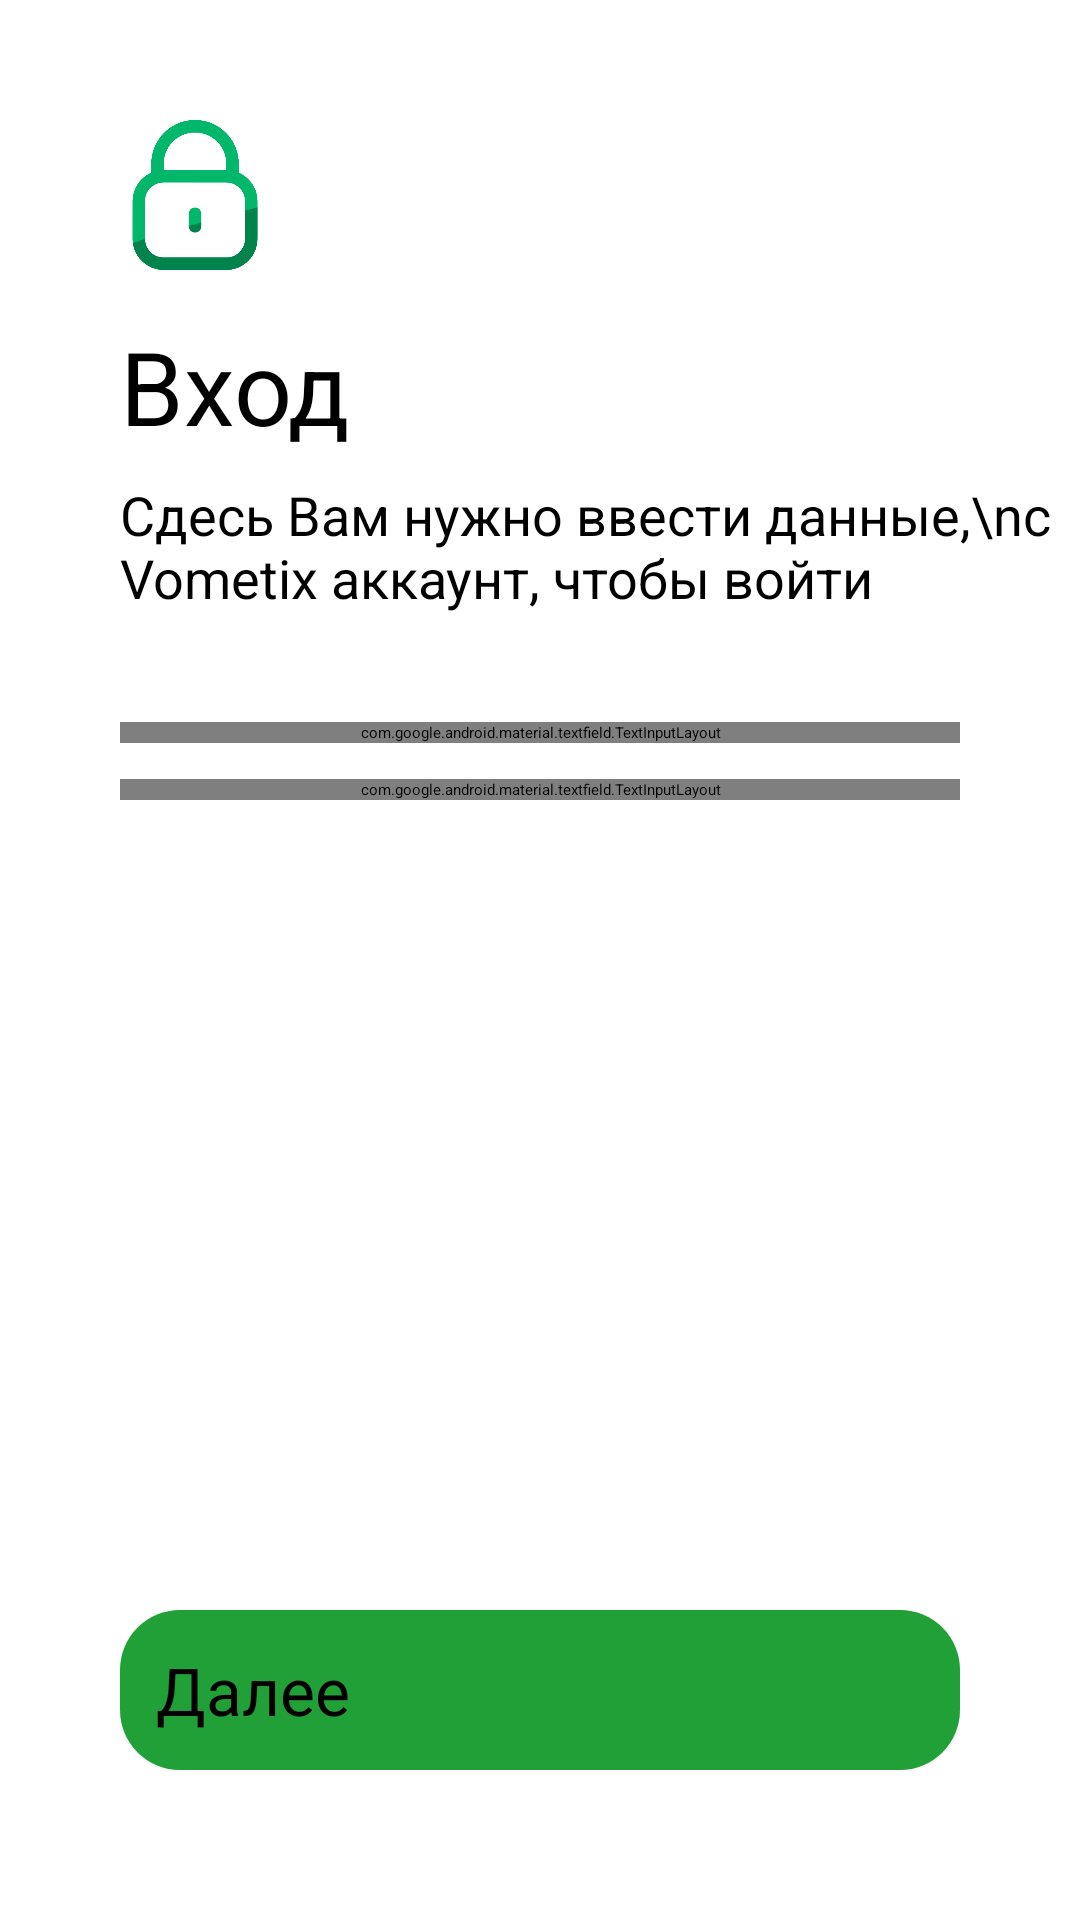

Where to tap for icons on this 1080x1920 app screen, as (x=x, y=y):
locker: (x=195, y=195)
